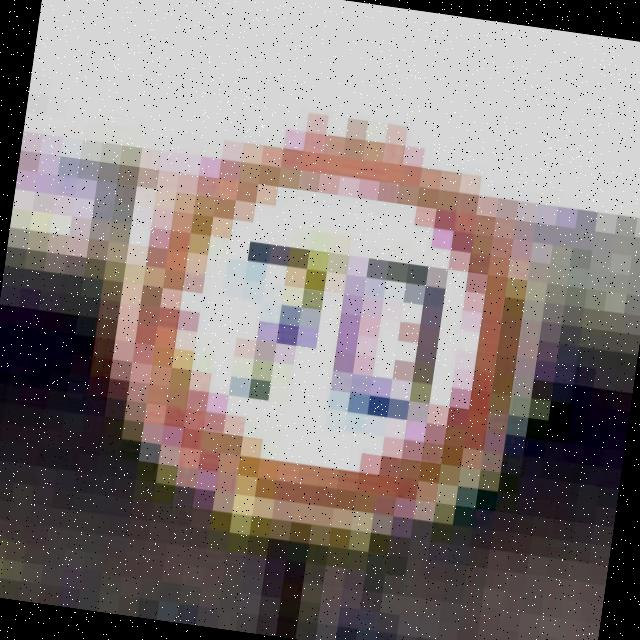Ograniczenie predkosci do 70: (94, 113, 552, 551)
